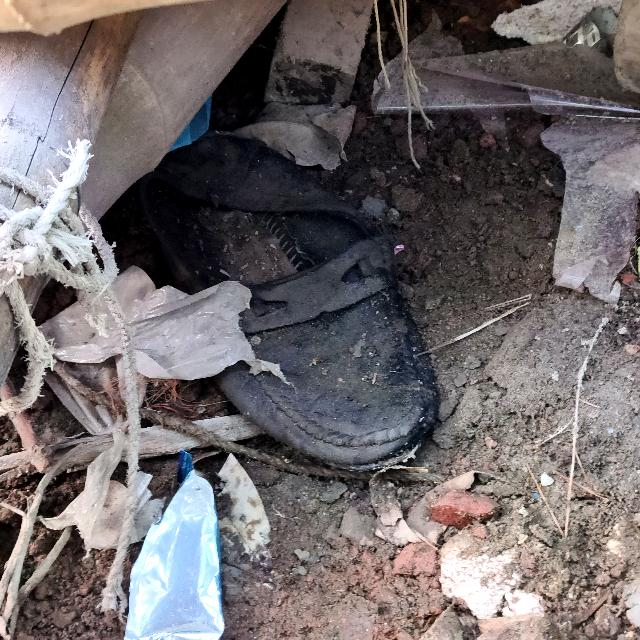sandal: (129, 111, 475, 513)
